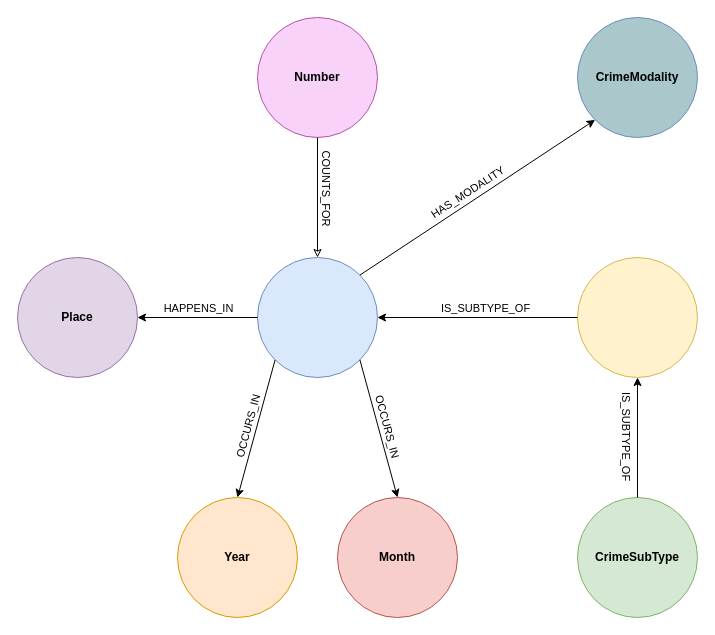
Some shapes in this 715 by 635 pixel diagram are drawn without their labels. Here are the shapes that lost their labels. From the top down, the centre of each, then its label:
point (317, 317): CrimeCategory
point (637, 317): CrimeType
